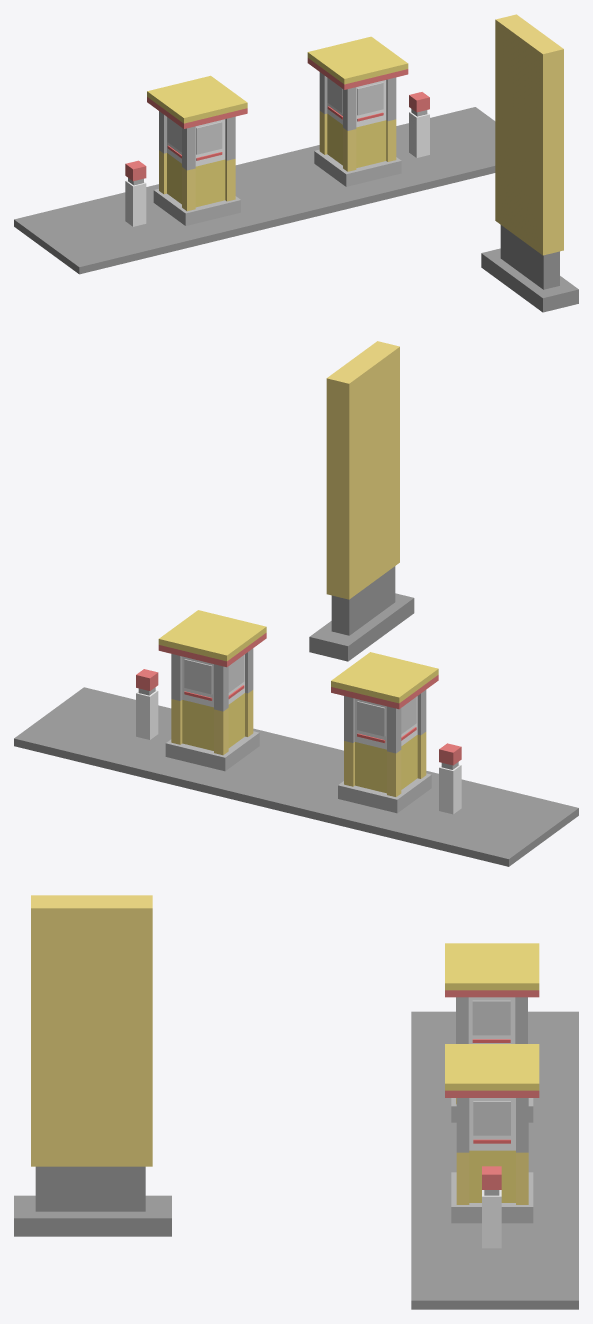
File: auxillary_gaspumps.fbx
3 renders of one model, top to bottom at view 1: azimuth 30°, elevation 25°; view 2: azimuth 150°, elevation 25°; view 3: azimuth 270°, elevation 25°, orthographic. The views are drawn at different scales.
Visible parts, largest first — view 1: auxillary_gaspumps; view 2: auxillary_gaspumps; view 3: auxillary_gaspumps.
Boxes of the visible parts, bbox=[...] form: auxillary_gaspumps: bbox=[14, 14, 578, 312]; auxillary_gaspumps: bbox=[14, 341, 578, 866]; auxillary_gaspumps: bbox=[14, 895, 578, 1309].
Bounding box in the file's own units: 263 × 137 × 217.
